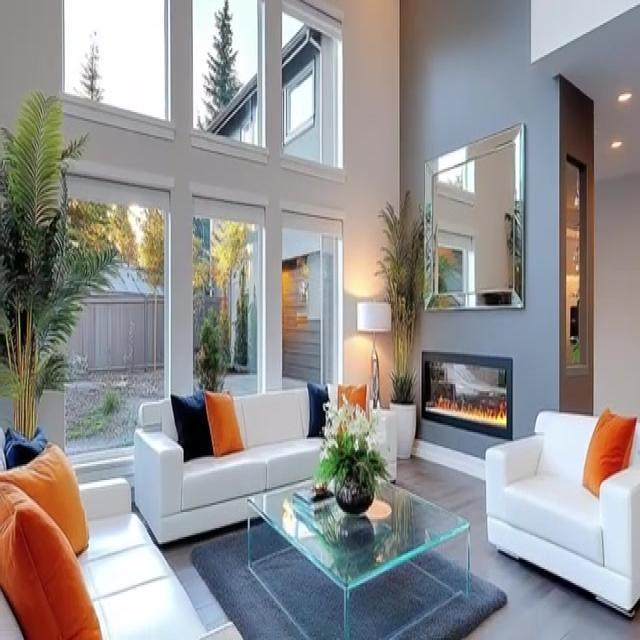obstacle: (132, 380, 398, 546), (245, 472, 471, 638), (484, 407, 639, 619)
